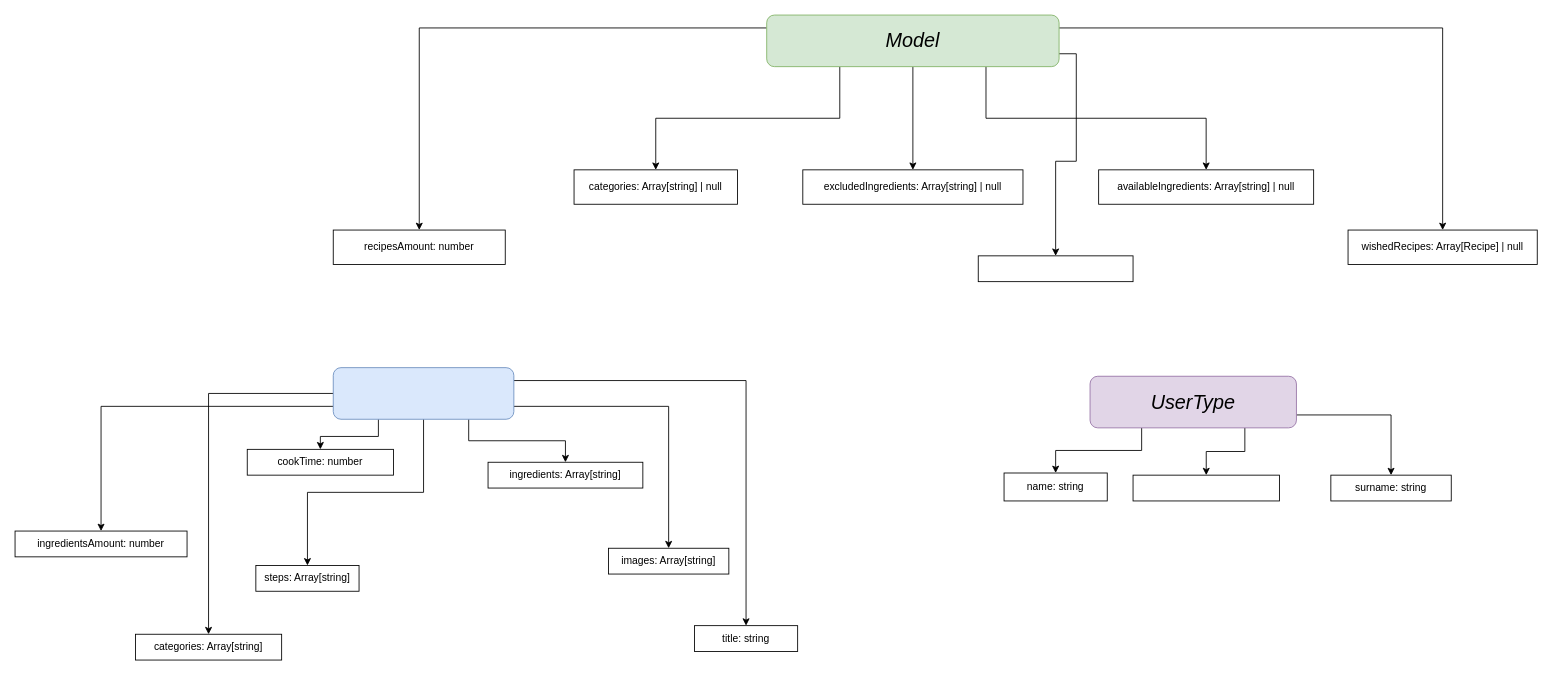
Image size: 1552x675. Some labels were removed from this diagram. Here are the shapes that lost their labels. From the top down, the centre of each, then its label:
point (1055, 268): user: null | userType
point (423, 393): Recipe
point (1205, 487): login: string
